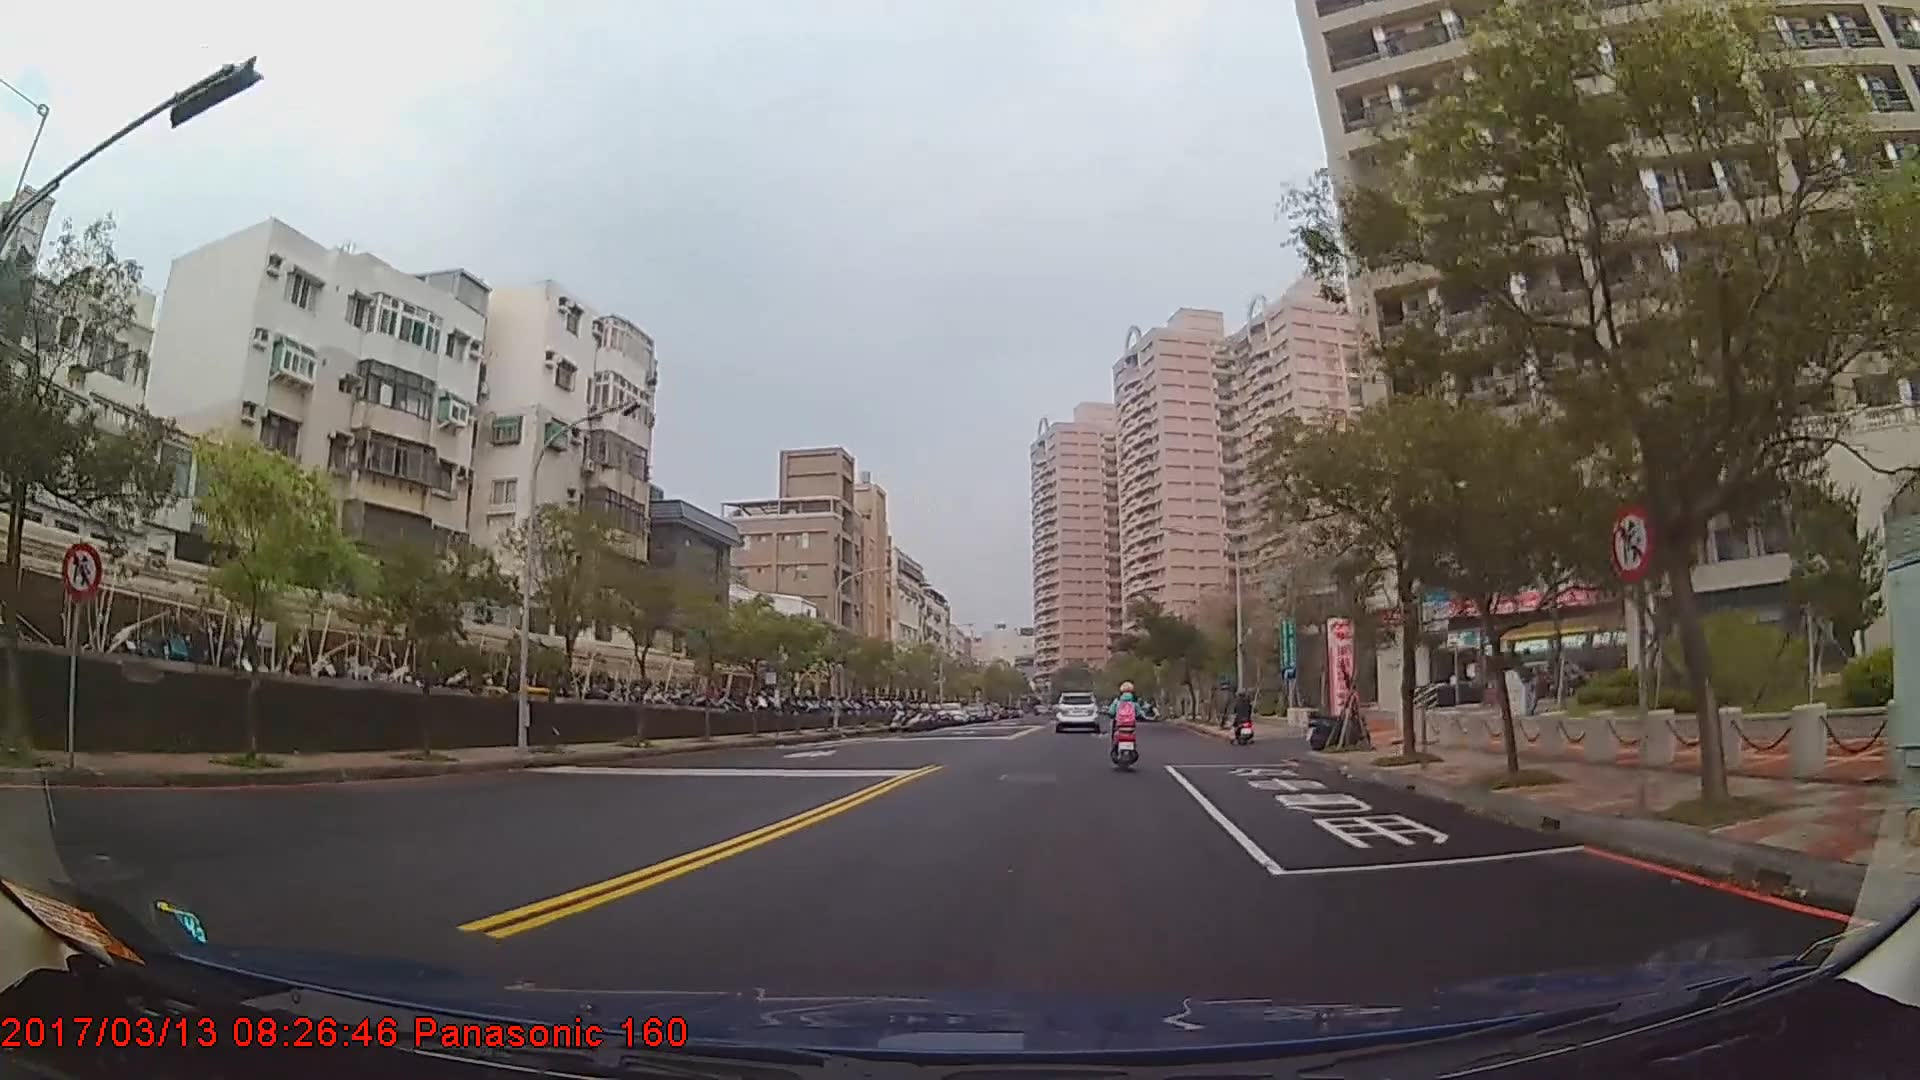rider: (1107, 677, 1152, 763), (1233, 692, 1255, 746)
vehicle: (1052, 690, 1097, 731)
